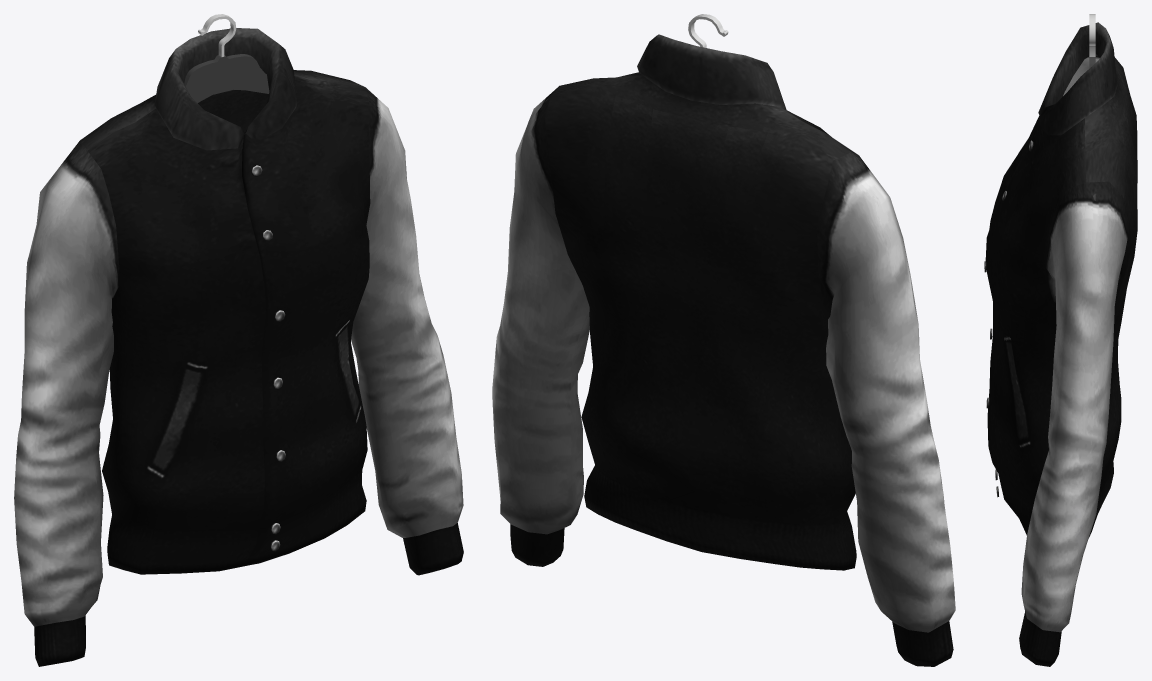
The model's file is Jacket.fbx.
3 renders of one model, left to right at view 1: azimuth 30°, elevation 25°; view 2: azimuth 150°, elevation 25°; view 3: azimuth 270°, elevation 25°, orthographic. The views are drawn at different scales.
Parts seen in each view (by area): view 1: Jacket, Hanger; view 2: Jacket; view 3: Jacket, Hanger_Hook.
Part boxes in pixels (x1=…): Jacket: x1=14, y1=28, x2=463, y2=666; Hanger: x1=184, y1=54, x2=269, y2=103; Jacket: x1=492, y1=34, x2=955, y2=666; Jacket: x1=984, y1=22, x2=1137, y2=666; Hanger_Hook: x1=1089, y1=14, x2=1095, y2=56.
Size of the model in its own units: 0.7305 by 0.9369 by 0.2324.
